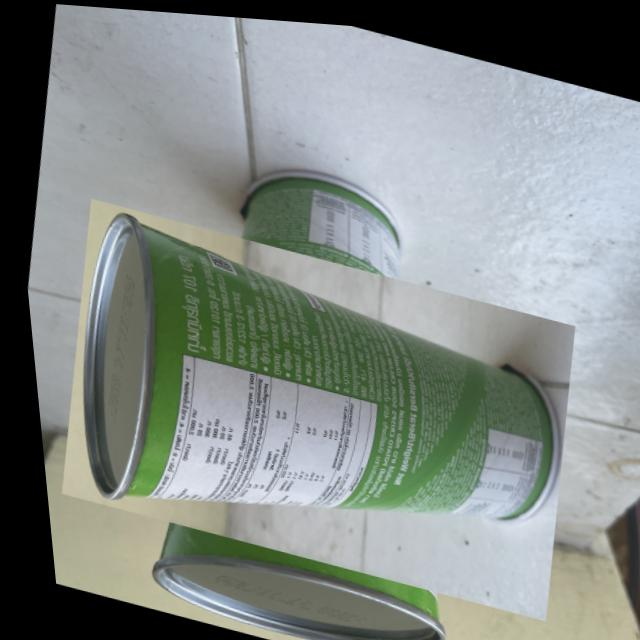a pringles: (62, 161, 560, 640)
